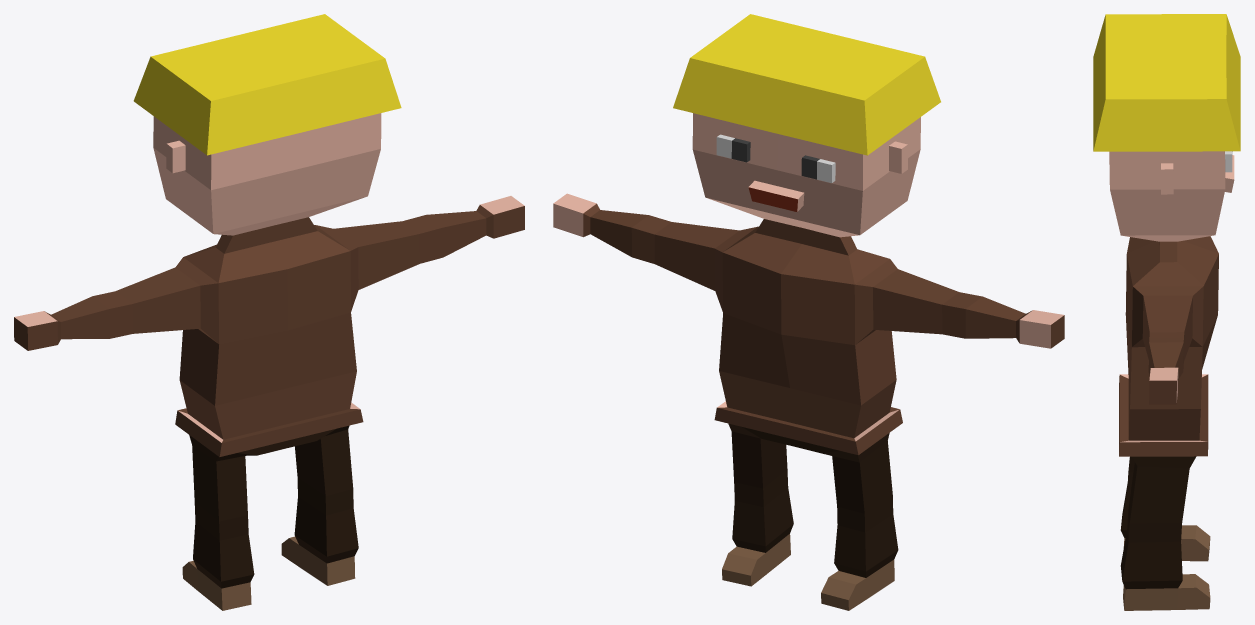
The model's file is BaseModel.fbx.
The picture shows the model from 3 angles, left to right: view 1: azimuth 30°, elevation 25°; view 2: azimuth 150°, elevation 25°; view 3: azimuth 270°, elevation 25°; orthographic projection.
Visible parts, largest first — view 1: Base model; view 2: Base model; view 3: Base model.
Part boxes in pixels (x1,y1,x2,y2): Base model: (14,14,524,610); Base model: (553,14,1064,610); Base model: (1093,14,1240,610).
Bounding box in the file's own units: 58.85 × 59.07 × 15.1.
